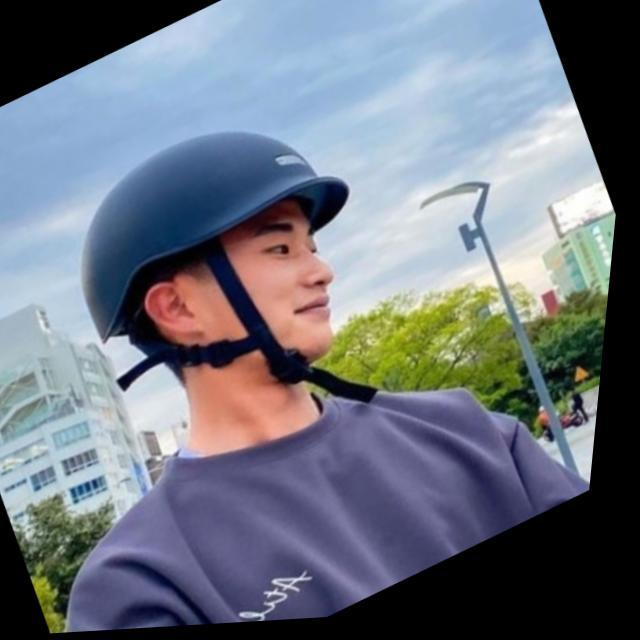Helmet: (77, 125, 354, 389)
